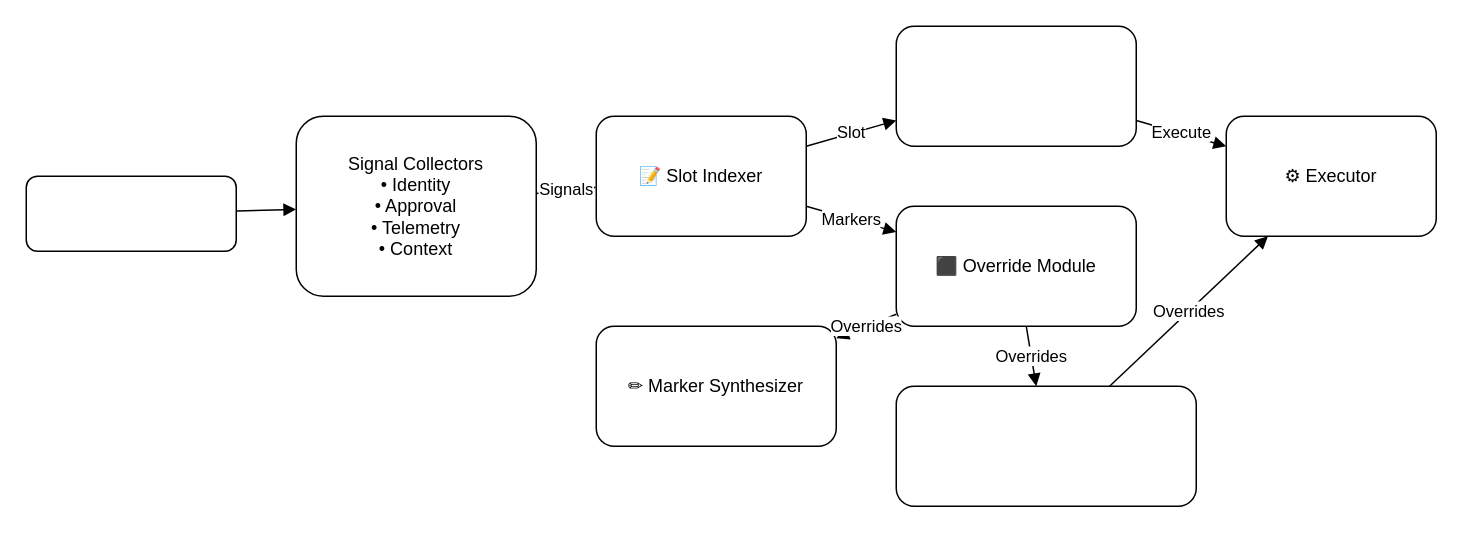
Some shapes in this 1463 by 533 pixel diagram are drawn without their labels. The centre of each missing label's shape, as x and y in pixels:
"Drift & Conflict Manager" goes at point 1045,445.
"ETE Request Intake" goes at point 130,213.
"📝 Executing Plan" goes at point 1015,85.
